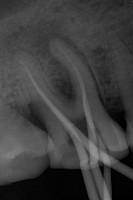Dental Caries: (36, 23, 83, 102)
